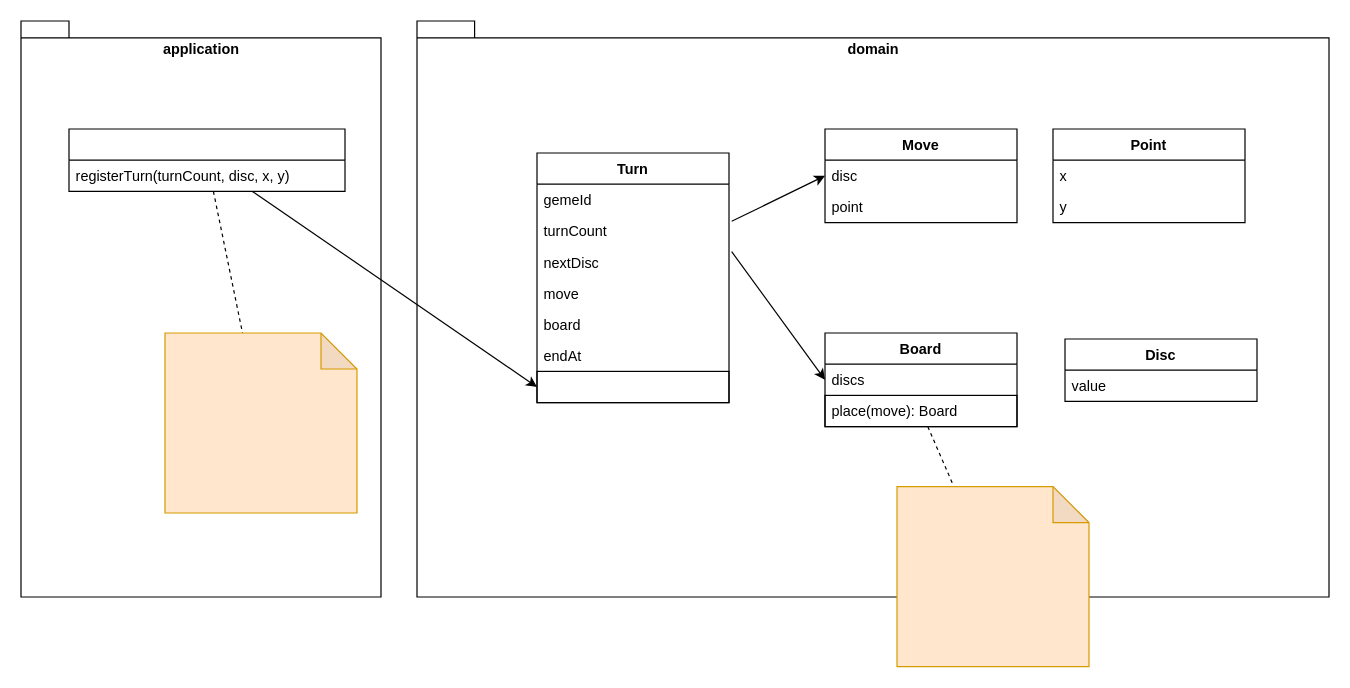
This 1350x688 diagram has some shape labels left out. The box of each missing label's shape, as (x1, y1, x2, y2) in pixels:
place() ・盤面におけるかチェック ・石を置く ・ひっくり返す: (896, 485, 1089, 667)
placeNext(disc, point): Turn: (536, 370, 729, 403)
TurnService: (68, 128, 345, 191)
・1つ前のターンを取得 ・石を置く ・ターンを保存する: (164, 332, 357, 513)
